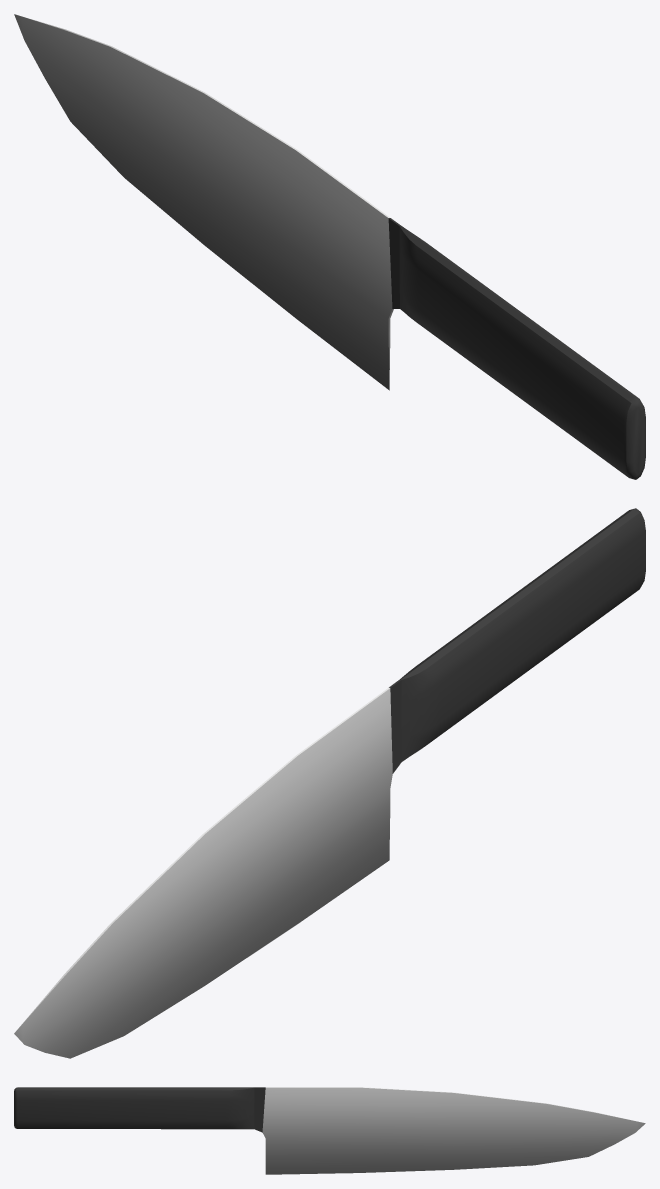
The model's file is Large Knife.fbx.
3 renders of one model, top to bottom at view 1: azimuth 30°, elevation 25°; view 2: azimuth 150°, elevation 25°; view 3: azimuth 270°, elevation 25°, orthographic. The views are drawn at different scales.
Visible parts, largest first — view 1: Large Knife; view 2: Large Knife; view 3: Large Knife.
Boxes of the visible parts, left/top/right/bottom form: Large Knife: left=14, top=14, right=645, bottom=479; Large Knife: left=14, top=508, right=645, bottom=1058; Large Knife: left=14, top=1087, right=645, bottom=1174.
Bounding box in the file's own units: 1.17 × 9.1 × 59.61.
